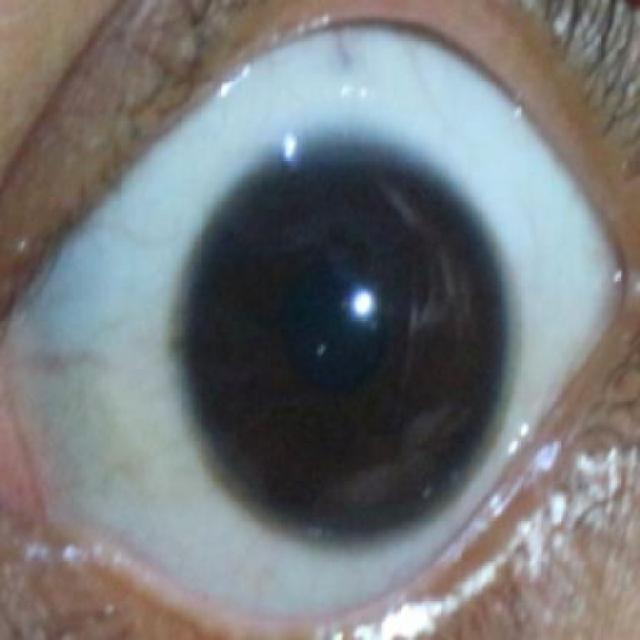Normal: (173, 135, 505, 541)
